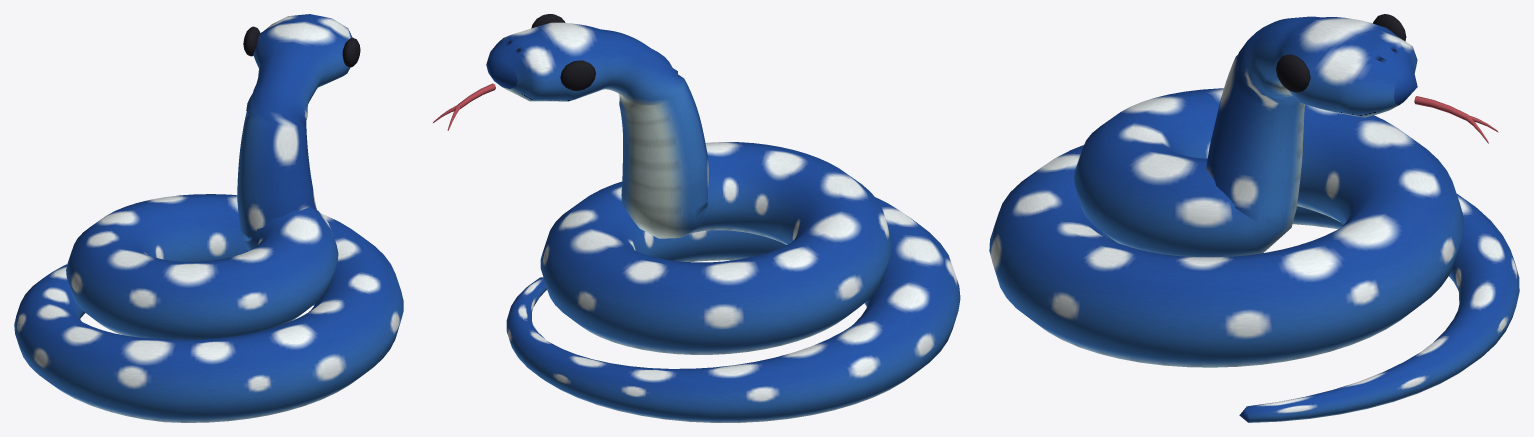
File: ClairvoyantSnake.fbx
3 renders of one model, left to right at view 1: azimuth 30°, elevation 25°; view 2: azimuth 150°, elevation 25°; view 3: azimuth 270°, elevation 25°, orthographic. The views are drawn at different scales.
Parts seen in each view (by area): view 1: SnakeBody, Eye_R; view 2: SnakeBody, Eye_L; view 3: SnakeBody, Eye_R, Tongue.
Part boxes in pixels (x1=…): SnakeBody: x1=14, y1=14, x2=403, y2=422; Eye_R: x1=342, y1=38, x2=360, y2=67; SnakeBody: x1=486, y1=22, x2=960, y2=422; Eye_L: x1=560, y1=60, x2=595, y2=90; SnakeBody: x1=989, y1=16, x2=1519, y2=422; Eye_R: x1=1276, y1=54, x2=1310, y2=92; Tongue: x1=1414, y1=96, x2=1498, y2=143.
Bounding box in the file's own units: 0.26 × 0.19 × 0.2528.
3 materials, 1 textured.
